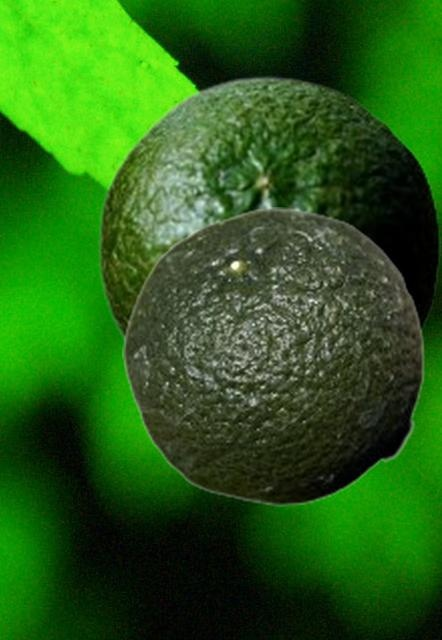calamansi: (97, 75, 439, 344), (122, 207, 424, 505)
